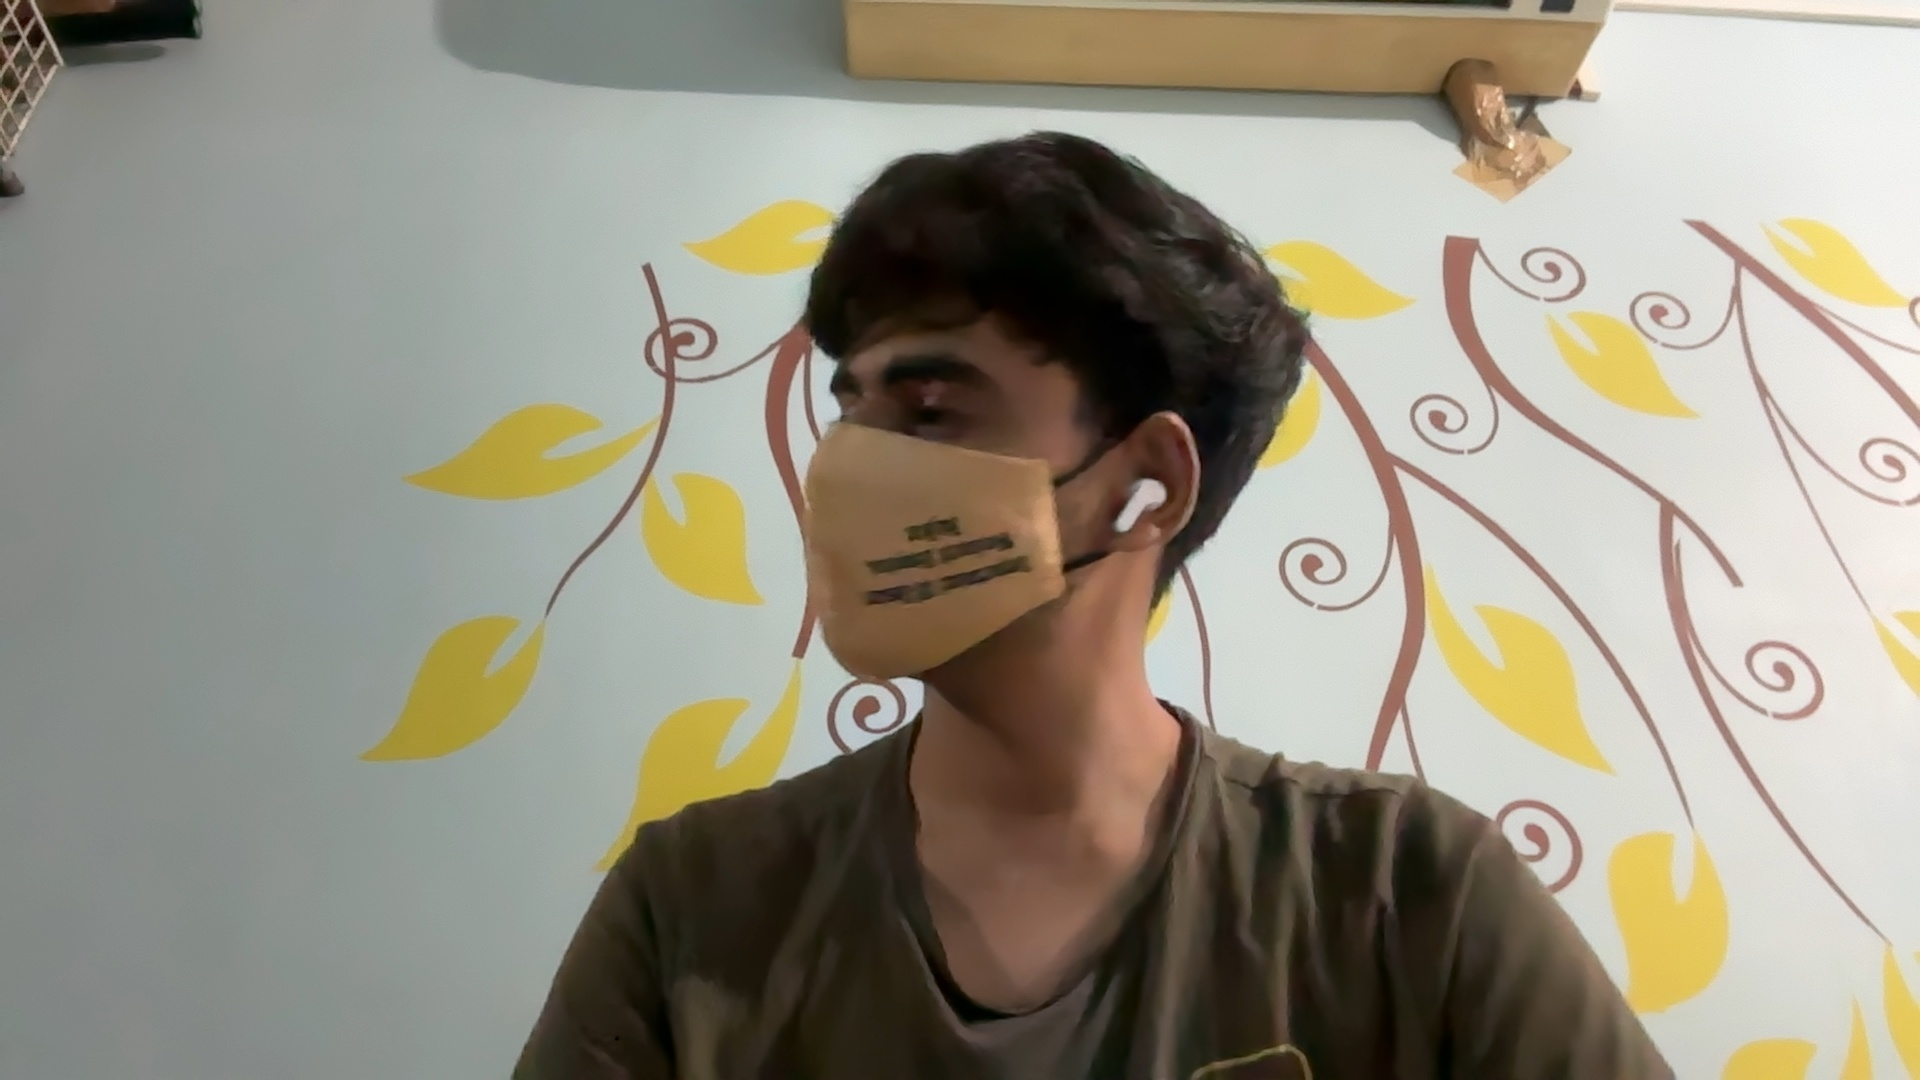Mask: (778, 433, 1103, 691)
